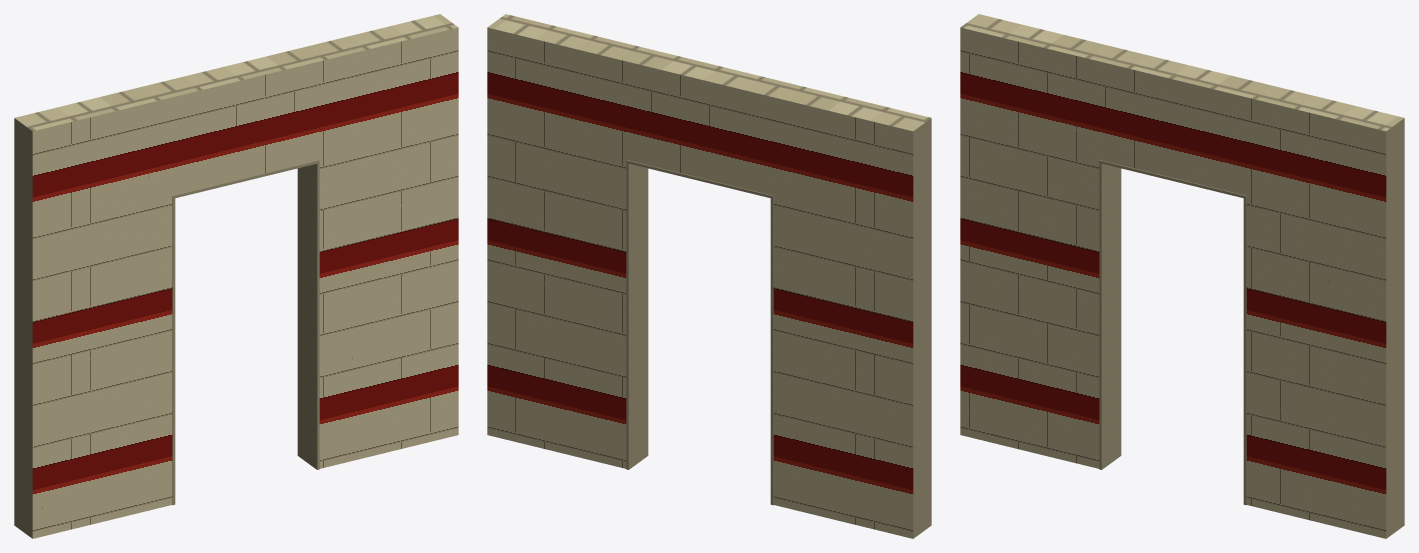
File: wall door hole 3x v4 limewall tile-opening.glb
3 views of the same model, side by side, from view 1: azimuth 30°, elevation 25°; view 2: azimuth 150°, elevation 25°; view 3: azimuth 330°, elevation 25° (orthographic).
Parts seen in each view (by area): view 1: doorhole_v4_limewall_3tile_mesh, doorhole_v4_limewall_cut_reveal_mesh; view 2: doorhole_v4_limewall_3tile_mesh, doorhole_v4_limewall_cut_reveal_mesh; view 3: doorhole_v4_limewall_3tile_mesh, doorhole_v4_limewall_cut_reveal_mesh.
Boxes of the visible parts, <box> form: doorhole_v4_limewall_3tile_mesh: <box>14,14,458,538</box>; doorhole_v4_limewall_cut_reveal_mesh: <box>172,160,319,505</box>; doorhole_v4_limewall_3tile_mesh: <box>487,14,931,538</box>; doorhole_v4_limewall_cut_reveal_mesh: <box>626,160,773,505</box>; doorhole_v4_limewall_3tile_mesh: <box>960,14,1404,538</box>; doorhole_v4_limewall_cut_reveal_mesh: <box>1099,160,1246,505</box>.
Size of the model in its own units: 3 by 2.74 by 0.237.
Materials: 3 (3 with a texture image).
